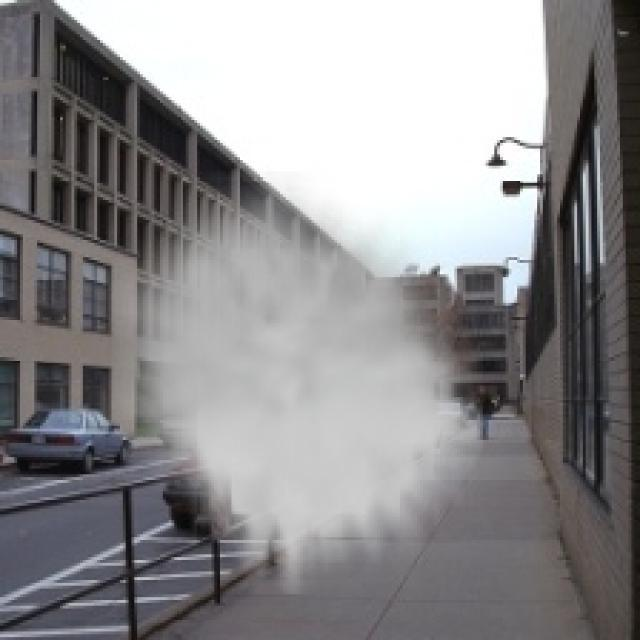Smoke: (111, 172, 483, 594)
